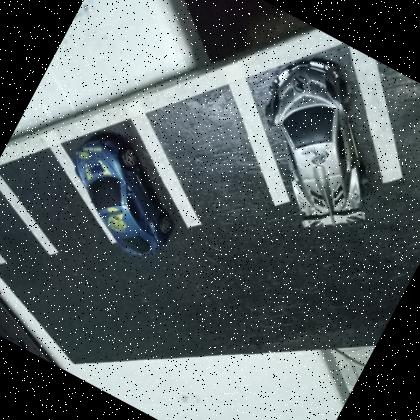Car: (266, 61, 364, 225), (72, 133, 174, 257)
